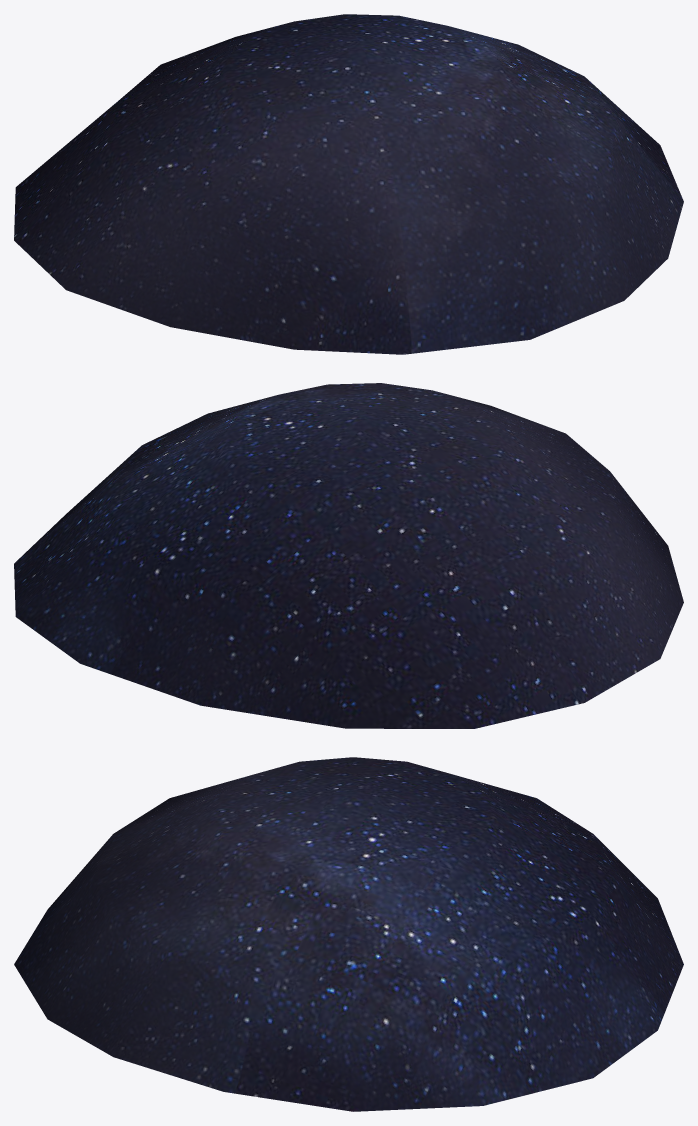
The model's file is StarrySky01_Maincity_001.FBX.
3 views of the same model, one above another, from view 1: azimuth 30°, elevation 25°; view 2: azimuth 150°, elevation 25°; view 3: azimuth 270°, elevation 25° (orthographic).
Visible parts, largest first — view 1: StarrySky01_Maincity_001; view 2: StarrySky01_Maincity_001; view 3: StarrySky01_Maincity_001.
Boxes of the visible parts, x1,y1,x2,y2 form: StarrySky01_Maincity_001: (14,14,683,354); StarrySky01_Maincity_001: (14,383,683,728); StarrySky01_Maincity_001: (14,757,683,1111).
Bounding box in the file's own units: 1799 × 480 × 1729.
